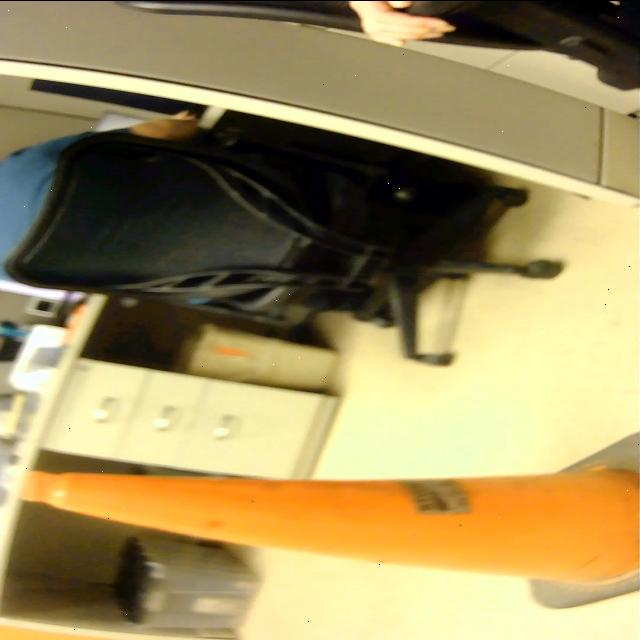traffic cone: (7, 427, 640, 616)
